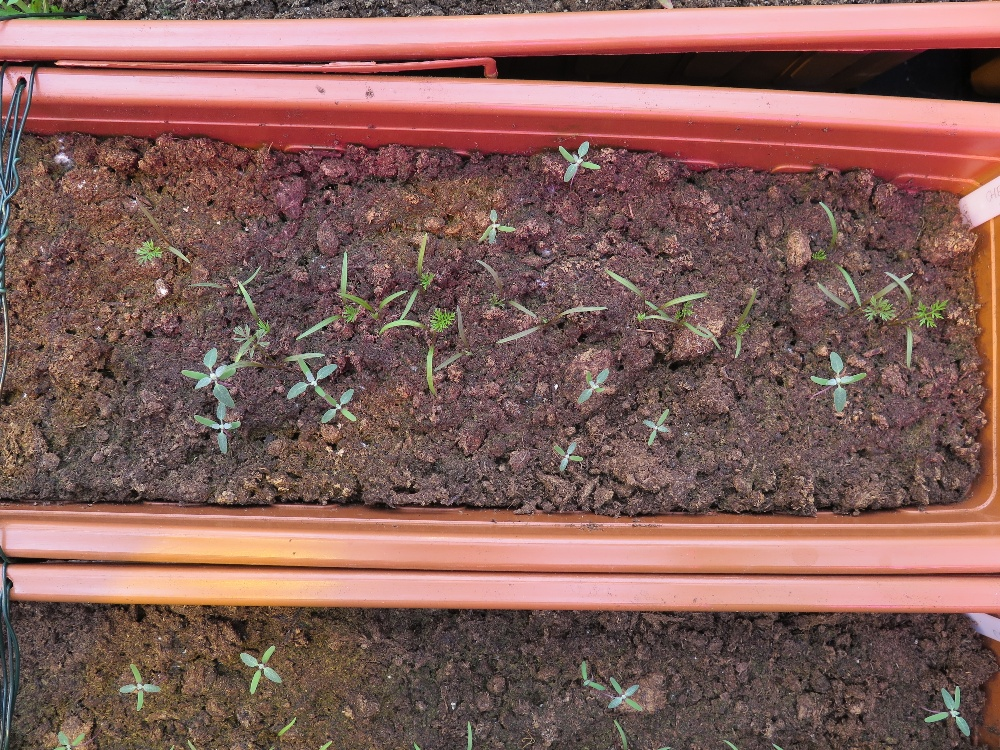crop: (285, 244, 421, 347), (389, 233, 469, 402), (620, 273, 736, 362), (492, 285, 625, 349), (207, 267, 285, 356), (708, 273, 766, 367), (805, 254, 872, 326), (862, 252, 922, 316), (893, 306, 928, 374), (814, 194, 857, 249), (127, 228, 173, 278), (605, 260, 653, 304), (275, 346, 333, 372), (607, 716, 646, 750), (475, 257, 512, 288), (452, 722, 488, 750), (276, 714, 305, 743)
weed: (174, 334, 267, 424), (570, 659, 639, 727), (184, 408, 264, 462), (799, 345, 867, 407), (225, 639, 286, 700), (921, 673, 974, 741), (288, 351, 341, 412), (566, 357, 624, 407), (477, 202, 525, 253), (320, 385, 364, 436), (549, 143, 595, 191), (637, 406, 679, 448), (547, 439, 599, 471), (121, 663, 160, 704)
